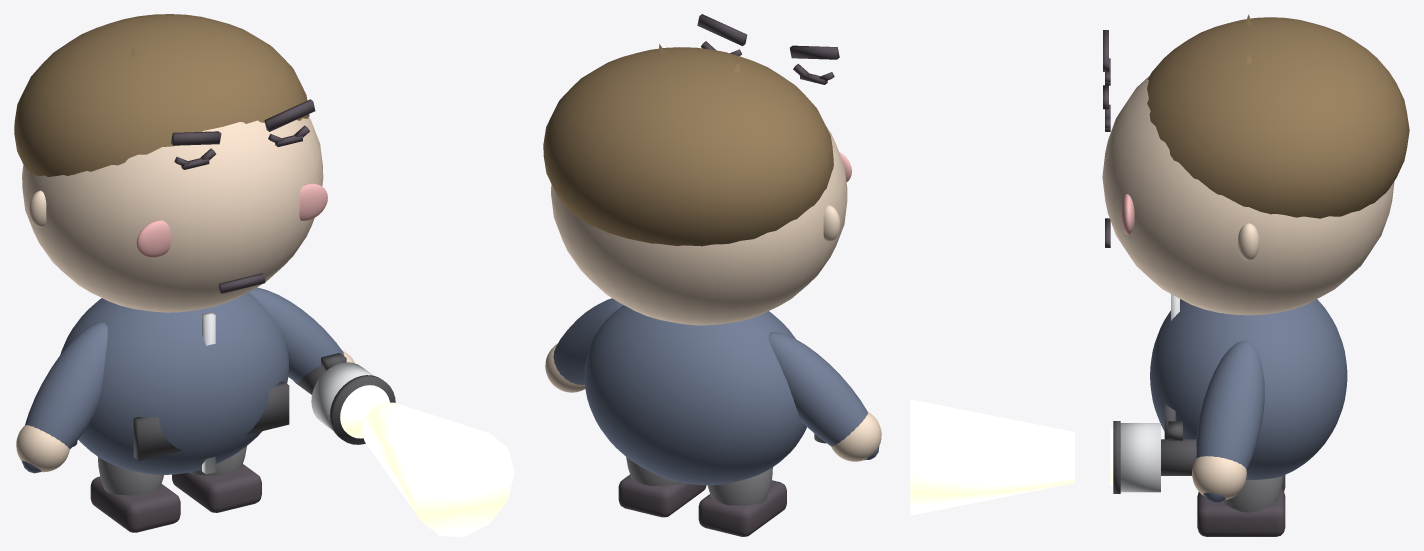
File: torch.glb
3 renders of one model, left to right at view 1: azimuth 30°, elevation 25°; view 2: azimuth 150°, elevation 25°; view 3: azimuth 270°, elevation 25°, orthographic. The views are drawn at different scales.
Parts seen in each view (by area): view 1: Head, HairCap, Torso, Beam, Arm_L, Arm_R, Shoe_L, Shoe_R, Hand_L, TorchHead, Leg_L, TorchLens (+8 smaller); view 2: HairCap, Torso, Head, Arm_L, Shoe_L, Arm_R, Shoe_R, Leg_L, Hand_L, Brow_R, Hand_R, Brow_L (+2 smaller); view 3: HairCap, Head, Torso, Beam, Arm_R, TorchHead, Shoe_R, Hand_R, Leg_R, TorchGrip, Ear_R, TorchRim.
Boxes of the visible parts, x1,y1,x2,y2 form: Head: [22, 117, 323, 312]; HairCap: [14, 14, 309, 176]; Torso: [60, 292, 288, 474]; Beam: [361, 402, 514, 536]; Arm_L: [21, 322, 107, 473]; Arm_R: [248, 287, 344, 382]; Shoe_L: [90, 476, 180, 532]; Shoe_R: [172, 464, 261, 512]; Hand_L: [16, 425, 69, 472]; TorchHead: [311, 362, 373, 430]; Leg_L: [98, 457, 163, 495]; TorchLens: [340, 385, 389, 438]; HairCap: [543, 47, 833, 246]; Torso: [584, 305, 806, 485]; Head: [551, 126, 847, 325]; Arm_L: [768, 332, 879, 460]; Shoe_L: [698, 480, 786, 536]; Arm_R: [553, 298, 623, 384]; Shoe_R: [618, 474, 706, 517]; Leg_L: [707, 467, 772, 505]; Hand_L: [831, 412, 881, 461]; Brow_R: [697, 14, 747, 46]; Hand_R: [545, 343, 585, 392]; Brow_L: [790, 45, 839, 59]; HairCap: [1147, 17, 1409, 218]; Head: [1102, 75, 1394, 315]; Torso: [1150, 299, 1347, 479]; Beam: [910, 399, 1074, 515]; Arm_R: [1196, 340, 1264, 502]; TorchHead: [1120, 423, 1160, 492]; Shoe_R: [1197, 489, 1285, 536]; Hand_R: [1192, 456, 1246, 500]; Leg_R: [1221, 476, 1282, 512]; TorchGrip: [1161, 439, 1196, 475]; Ear_R: [1237, 223, 1259, 260]; TorchRim: [1113, 421, 1120, 493].
Bounding box in the file's own units: 1.09 × 1.43 × 1.37.
